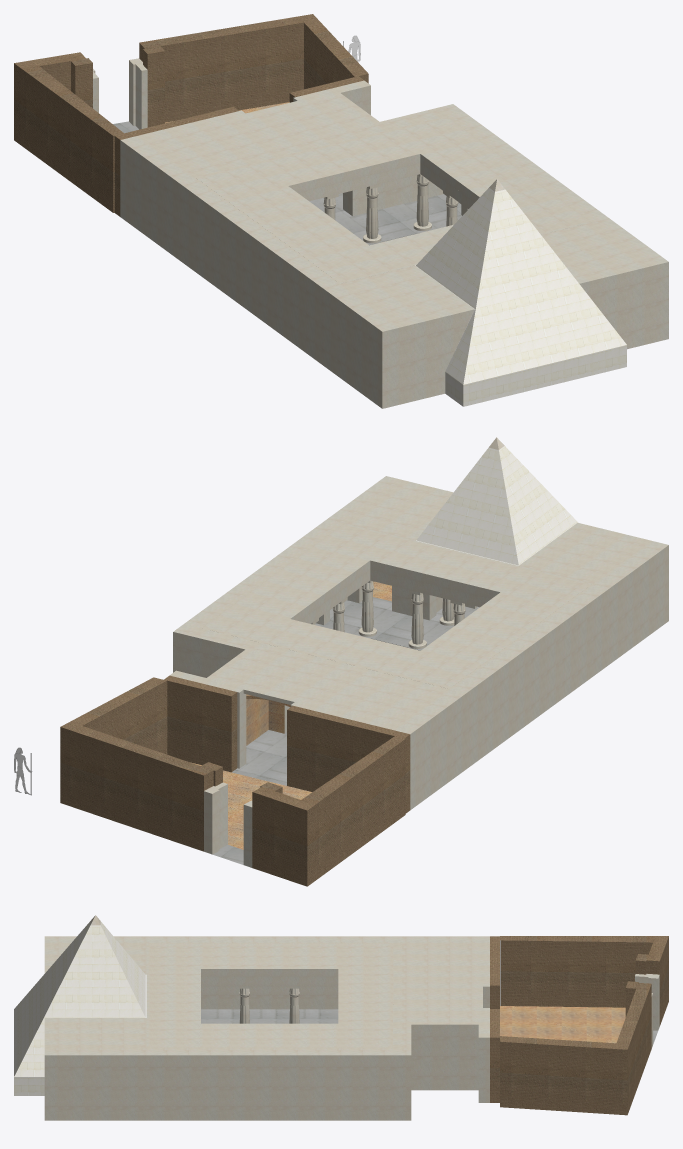
Rendered from Pay_Raia.obj.
3 views of the same model, one above another, from view 1: azimuth 30°, elevation 25°; view 2: azimuth 150°, elevation 25°; view 3: azimuth 270°, elevation 25° (orthographic). The views are drawn at different scales.
Visible parts, largest first — view 1: Mesh32 Model, Mesh26 ROOF1 Model, Mesh25 architrave1 Model, Mesh6 Component_8_3 Model, Mesh20 Component_8_10 Model; view 2: Mesh32 Model, Mesh26 ROOF1 Model, Mesh25 architrave1 Model; view 3: Mesh32 Model, Mesh26 ROOF1 Model, Mesh25 architrave1 Model, Mesh4 Component_8_2 Model, Mesh22 Component_8_11 Model.
Part boxes in pixels (left/top/right/bottom): Mesh32 Model: left=14, top=14, right=668, bottom=408; Mesh26 ROOF1 Model: left=195, top=116, right=590, bottom=283; Mesh25 architrave1 Model: left=298, top=163, right=474, bottom=208; Mesh6 Component_8_3 Model: left=366, top=184, right=381, bottom=238; Mesh20 Component_8_10 Model: left=416, top=174, right=428, bottom=226; Mesh32 Model: left=60, top=437, right=668, bottom=886; Mesh26 ROOF1 Model: left=201, top=523, right=591, bottom=688; Mesh25 architrave1 Model: left=300, top=569, right=490, bottom=623; Mesh32 Model: left=14, top=915, right=668, bottom=1120; Mesh26 ROOF1 Model: left=146, top=943, right=393, bottom=1047; Mesh25 architrave1 Model: left=201, top=976, right=338, bottom=986; Mesh4 Component_8_2 Model: left=239, top=986, right=250, bottom=1023; Mesh22 Component_8_11 Model: left=289, top=986, right=299, bottom=1023.
Size of the model in its own units: 11.8 by 6.15 by 24.46.
Materials: 9 (8 with a texture image).
